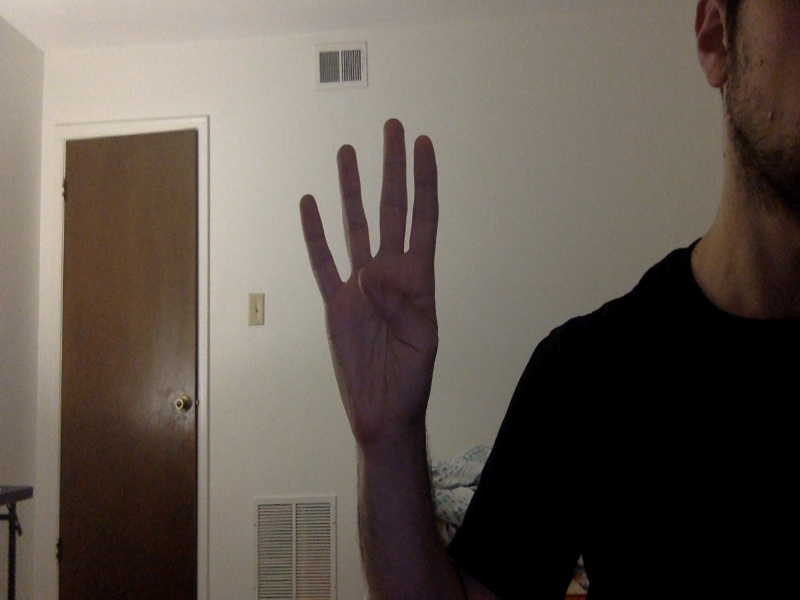4-hand: (296, 117, 441, 434)
